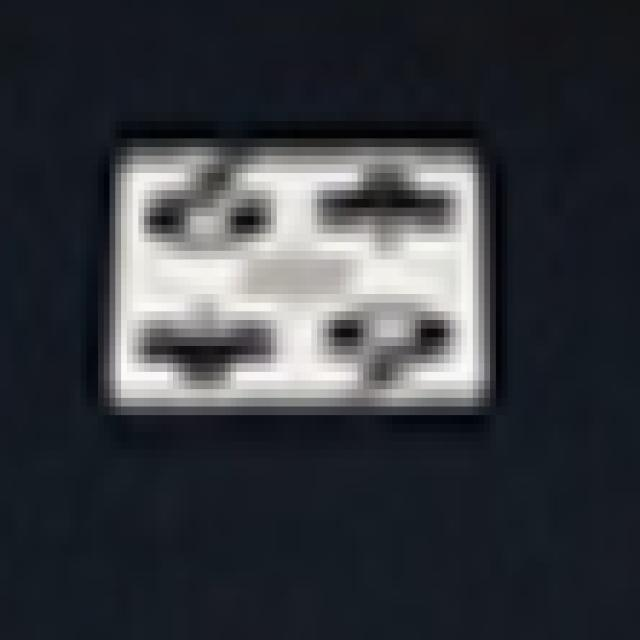Card-6: (113, 143, 479, 420)
